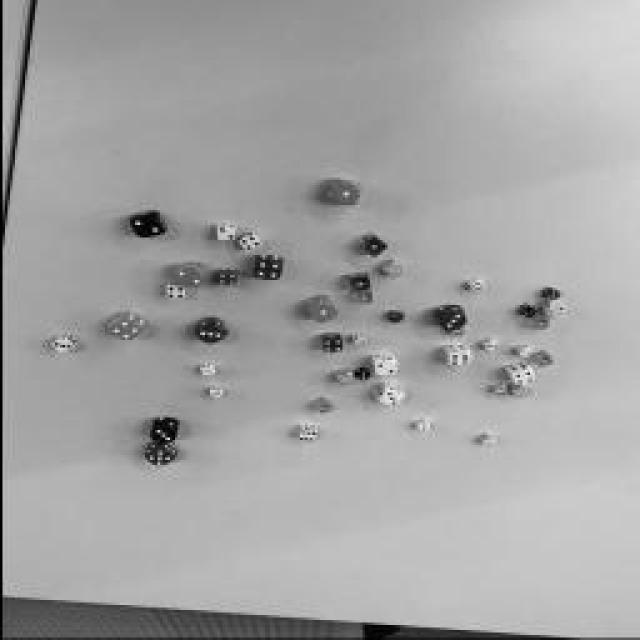dice_1: (330, 184, 358, 204), (307, 304, 335, 321), (359, 239, 381, 256), (348, 278, 368, 292), (199, 369, 211, 376)
dice_2: (129, 218, 161, 238), (172, 270, 200, 288), (374, 362, 394, 378), (215, 229, 233, 241), (542, 306, 562, 316), (480, 438, 495, 448), (516, 350, 529, 358), (352, 337, 362, 345), (390, 315, 400, 323)
dice_3: (192, 325, 222, 343), (438, 315, 462, 330), (148, 428, 172, 442), (380, 392, 400, 406), (49, 340, 71, 352), (512, 388, 528, 398), (336, 375, 352, 385), (312, 404, 328, 414), (534, 358, 548, 368), (531, 320, 544, 330), (520, 310, 535, 318), (355, 371, 367, 381), (482, 344, 498, 351), (206, 391, 219, 399), (416, 425, 426, 433)
dice_4: (251, 260, 279, 280), (108, 322, 138, 340), (236, 236, 259, 252), (511, 370, 531, 385), (215, 274, 235, 286), (320, 340, 340, 352), (165, 288, 183, 300), (382, 265, 400, 277)
dice_5: (144, 450, 171, 465), (542, 290, 558, 300), (355, 294, 370, 304)
dice_6: (448, 354, 468, 366), (295, 431, 315, 441), (469, 282, 481, 292), (493, 387, 505, 395), (451, 329, 464, 336)
